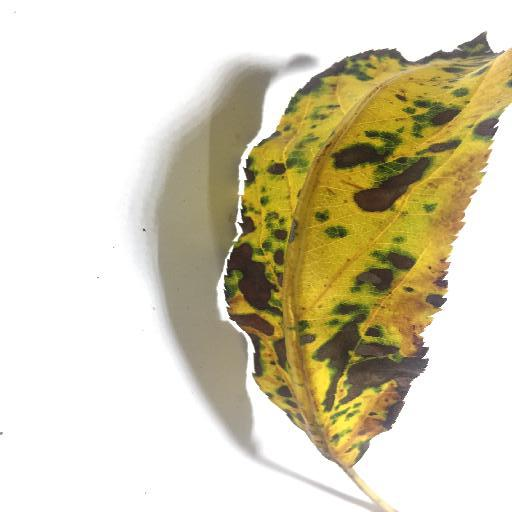Brown_Spot: (177, 24, 510, 512)
